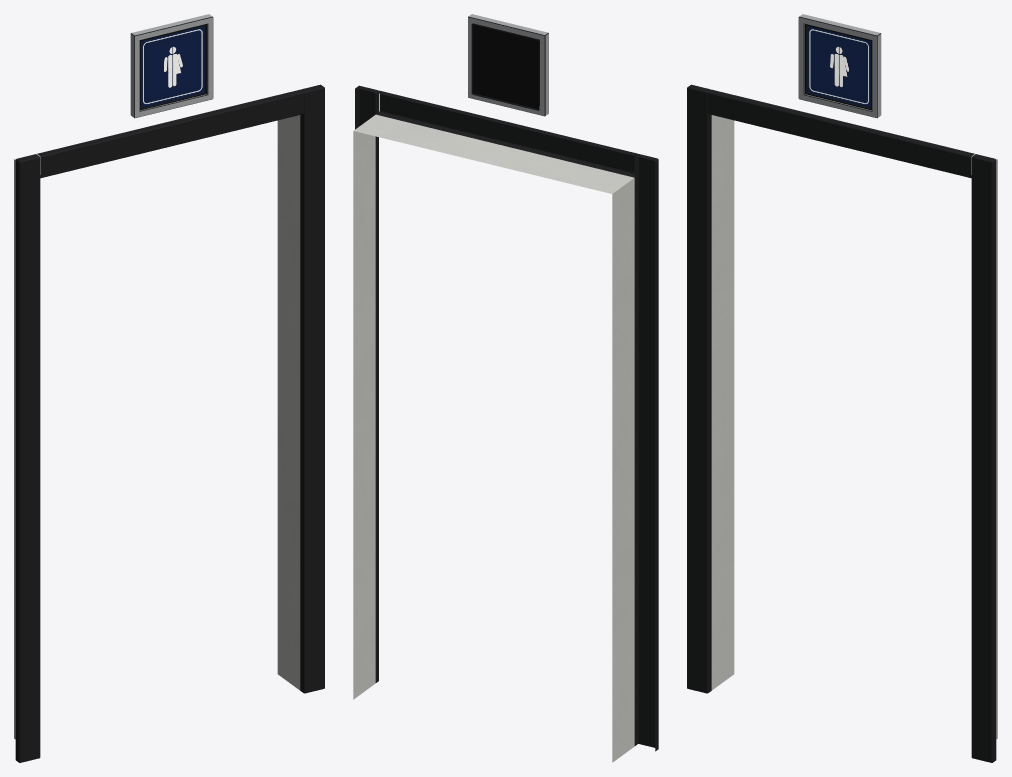
File: gteki_toilet_entrance_unisex.glb
3 views of the same model, side by side, from view 1: azimuth 30°, elevation 25°; view 2: azimuth 150°, elevation 25°; view 3: azimuth 330°, elevation 25° (orthographic).
Parts seen in each view (by area): view 1: VIS_trim, VIS_reveal, VIS_faces, VIS_frame; view 2: VIS_reveal, VIS_trim, VIS_frame; view 3: VIS_trim, VIS_reveal, VIS_faces, VIS_frame.
Boxes of the visible parts, <box> form: VIS_trim: <box>15,84,324,762</box>; VIS_reveal: <box>14,95,300,739</box>; VIS_faces: <box>141,26,204,107</box>; VIS_frame: <box>130,14,213,118</box>; VIS_reveal: <box>353,114,634,762</box>; VIS_trim: <box>355,85,658,751</box>; VIS_frame: <box>468,14,548,116</box>; VIS_trim: <box>687,84,996,762</box>; VIS_reveal: <box>711,95,997,739</box>; VIS_faces: <box>807,26,870,107</box>; VIS_frame: <box>798,14,881,118</box>.
Size of what is drawn, in the model's own units: 1.16 by 2.54 by 0.185.
5 materials, 2 textured.
